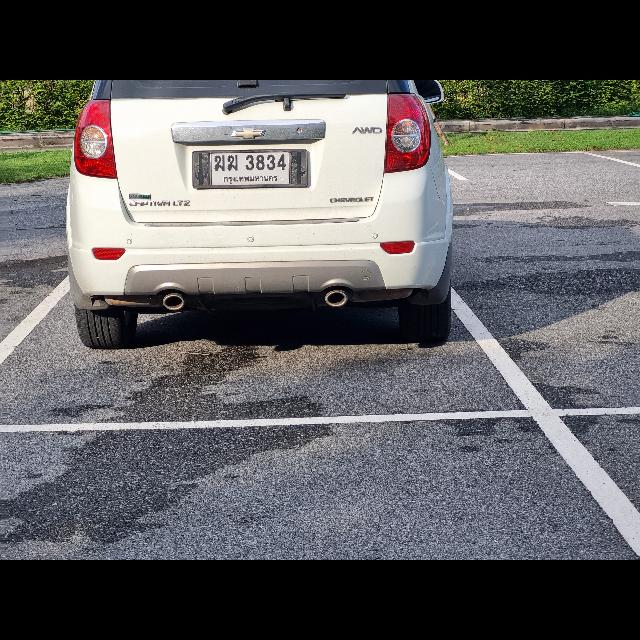licenseplate: (191, 151, 311, 189)
